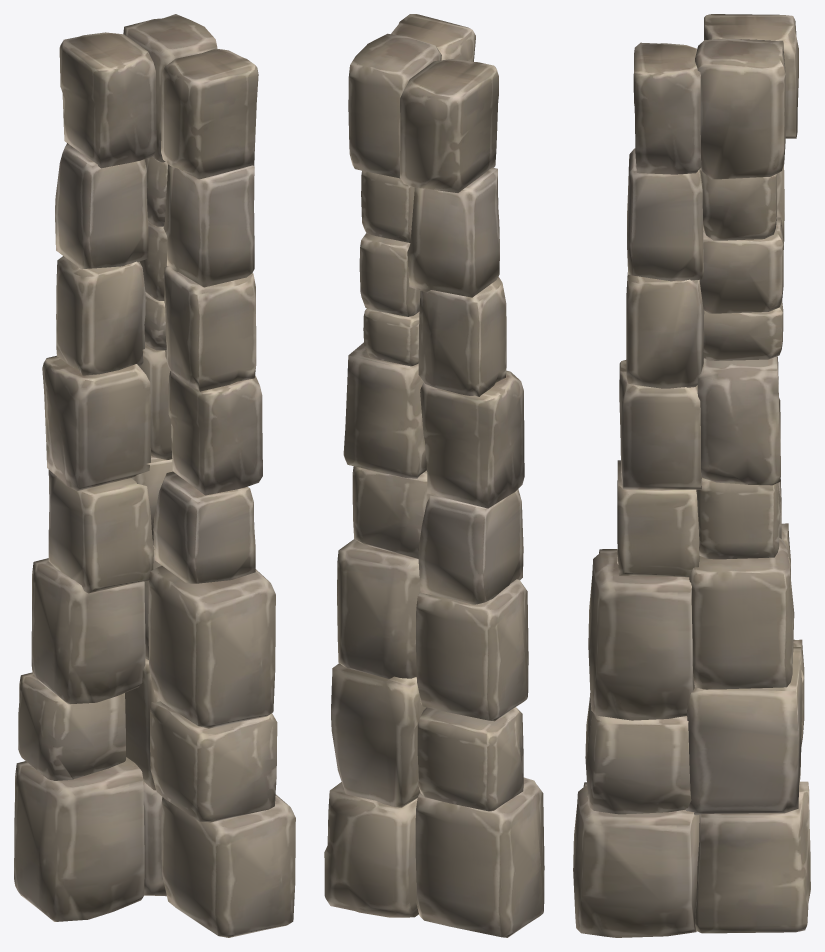
Rendered from corner-exteriorwide-brick.glb.
3 views of the same model, side by side, from view 1: azimuth 30°, elevation 25°; view 2: azimuth 150°, elevation 25°; view 3: azimuth 270°, elevation 25° (orthographic). The views are drawn at different scales.
Parts seen in each view (by area): view 1: Corner_ExteriorWide_Brick; view 2: Corner_ExteriorWide_Brick; view 3: Corner_ExteriorWide_Brick.
Boxes of the visible parts, left/top/right/bottom form: Corner_ExteriorWide_Brick: left=14, top=14, right=295, bottom=937; Corner_ExteriorWide_Brick: left=324, top=14, right=544, bottom=937; Corner_ExteriorWide_Brick: left=573, top=14, right=810, bottom=937.
Size of the model in its own units: 0.7123 by 3.04 by 0.7564.
1 material, 1 textured.
